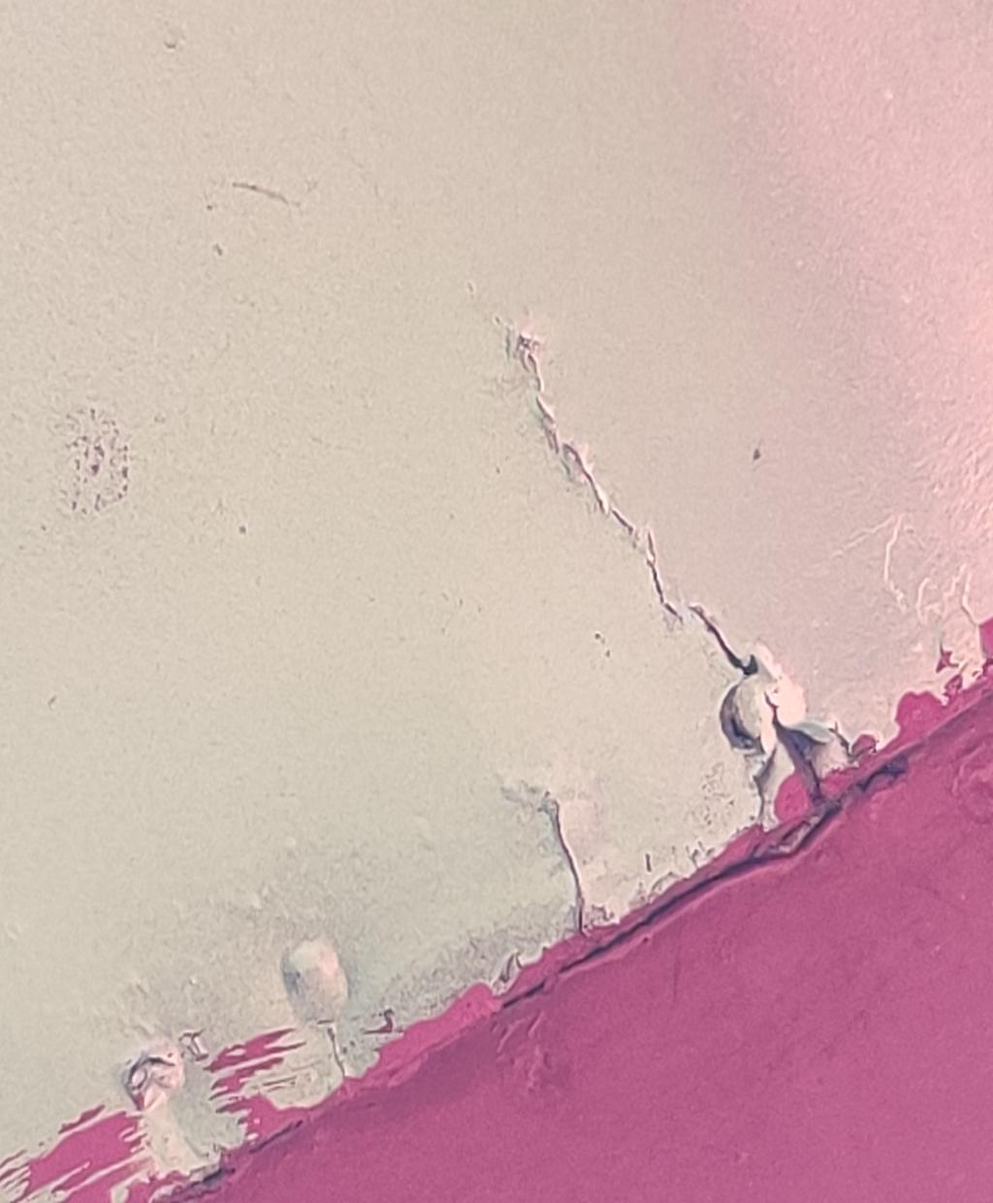crack: (487, 289, 884, 878), (506, 758, 622, 970)
